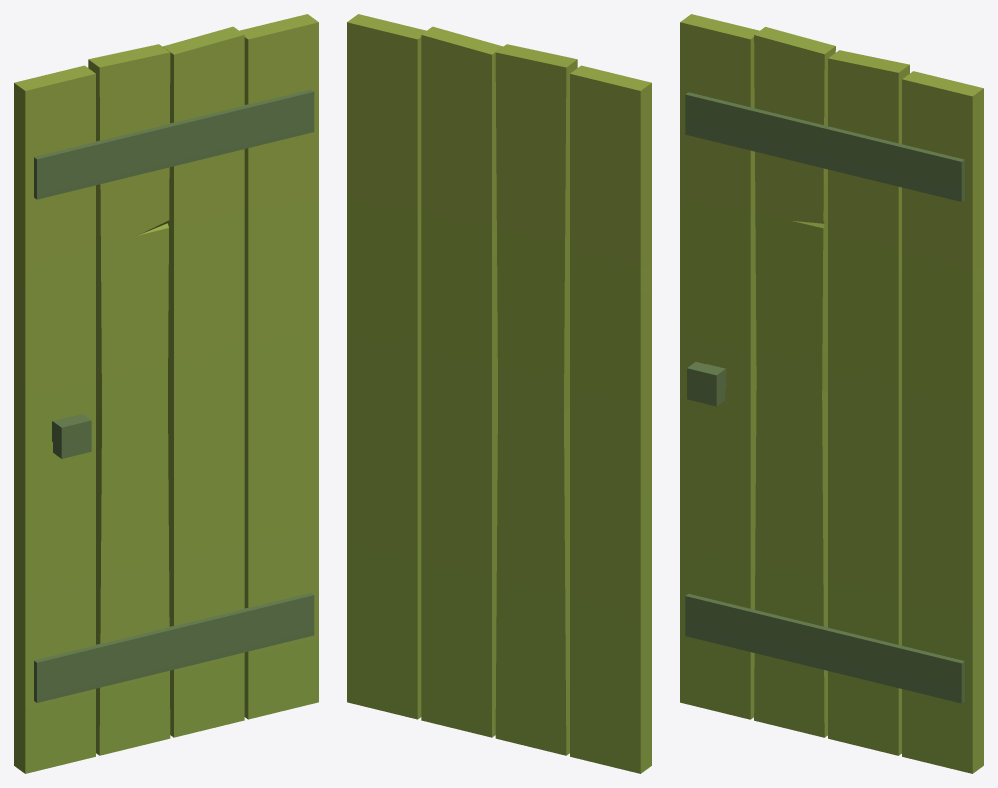
The model's file is Door_01.fbx.
3 renders of one model, left to right at view 1: azimuth 30°, elevation 25°; view 2: azimuth 150°, elevation 25°; view 3: azimuth 330°, elevation 25°, orthographic.
Parts seen in each view (by area): view 1: Door_01; view 2: Door_01; view 3: Door_01.
Boxes of the visible parts, box(x1,y1,x2,y2) form: Door_01: box(14, 14, 318, 773); Door_01: box(347, 14, 651, 773); Door_01: box(680, 14, 983, 773).
Size of the model in its own units: 0.9 by 2.02 by 0.1386.
